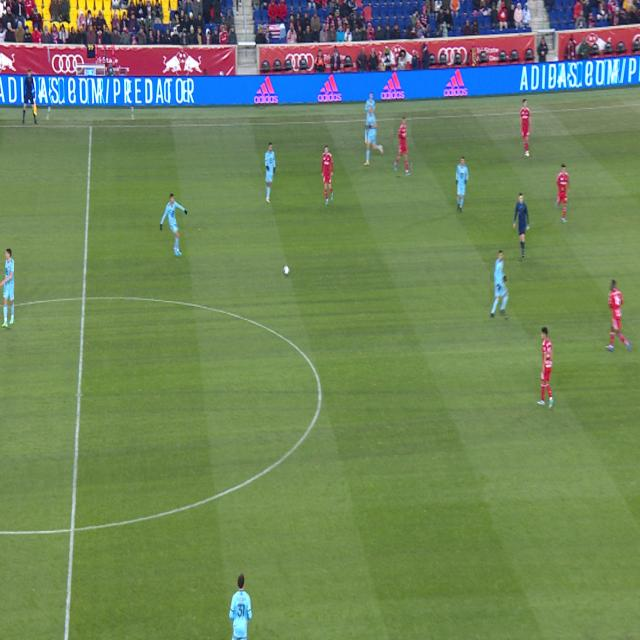football: (284, 266, 289, 275)
player: (605, 280, 631, 352), (160, 193, 187, 256), (229, 573, 252, 640), (537, 327, 553, 409), (490, 251, 509, 318), (364, 106, 383, 165), (0, 248, 14, 328), (395, 116, 411, 176), (556, 165, 570, 223), (520, 100, 533, 157), (456, 156, 469, 212), (322, 145, 333, 205), (265, 143, 276, 203), (365, 92, 375, 114), (366, 126, 368, 143)
referee: (513, 193, 530, 260)
